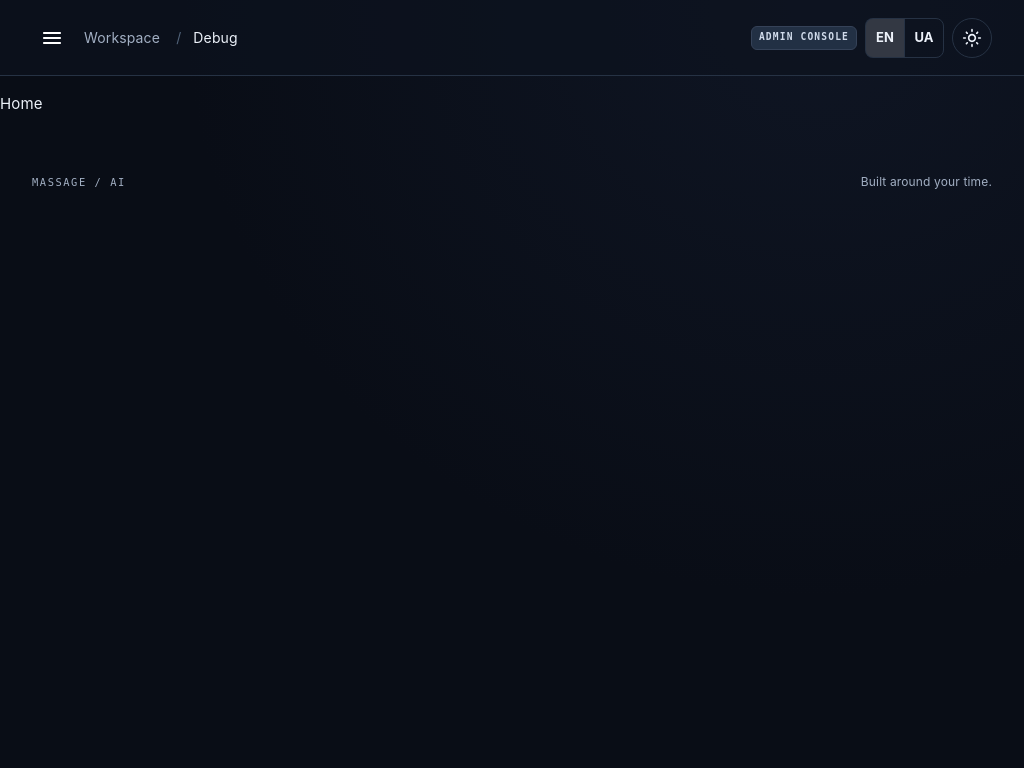
Test: admin experience › closes mobile navigation after selecting a destination
The width and height of the screenshot is (1024, 768).
Step 1. Click the button named "Open navigation" → (52, 38), box [32, 18, 72, 58]
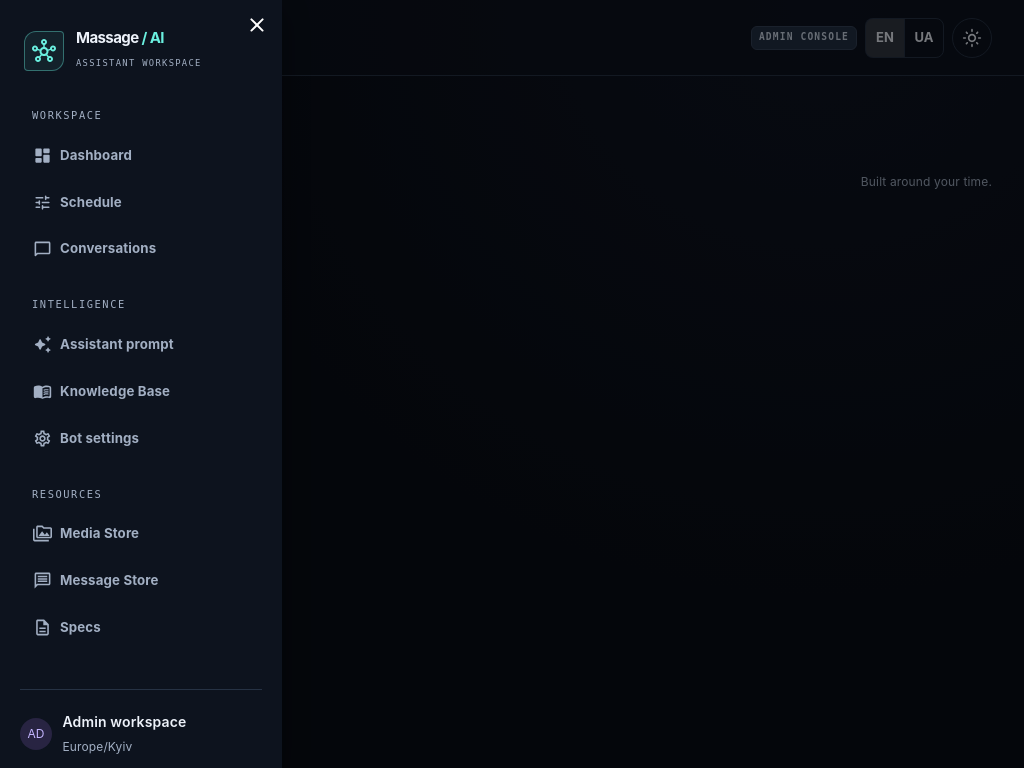
Step 2. Click the link "Schedule" → (77, 202), box [33, 193, 122, 212]
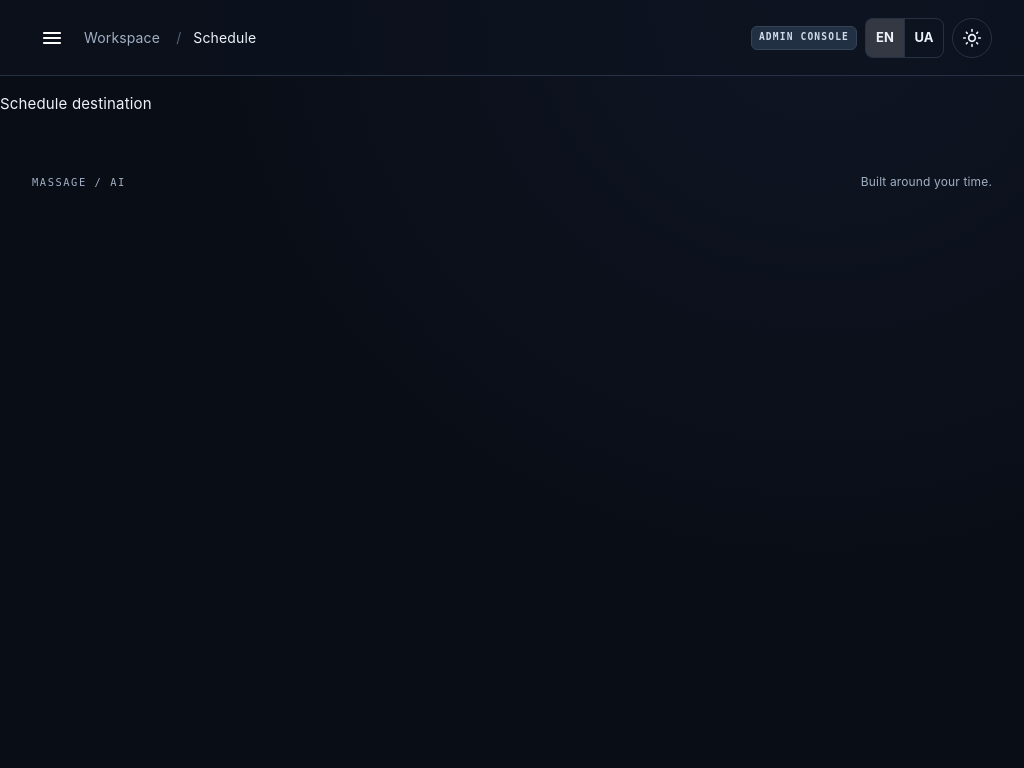
Now the dialog is gone
Now the text "Schedule destination" is shown, box [0, 94, 152, 113]
